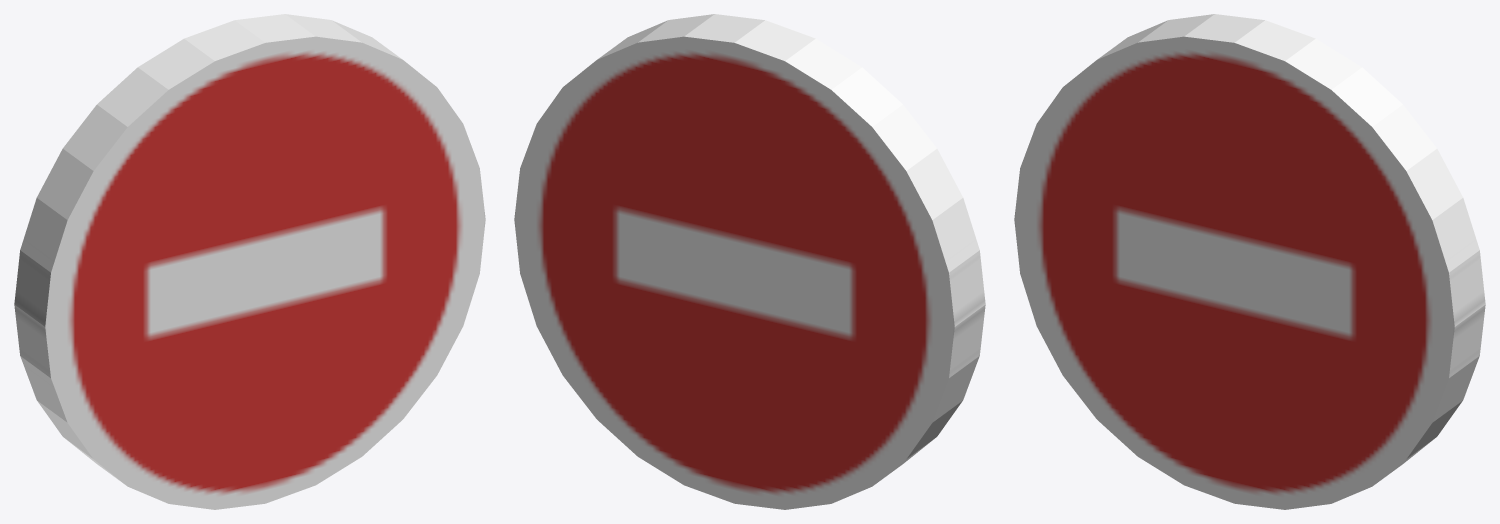
Rendered from ocuppedSignal.FBX.
The picture shows the model from 3 angles, left to right: view 1: azimuth 30°, elevation 25°; view 2: azimuth 150°, elevation 25°; view 3: azimuth 330°, elevation 25°; orthographic projection.
Parts seen in each view (by area): view 1: ocupedSignal; view 2: ocupedSignal; view 3: ocupedSignal.
Part boxes in pixels (left/top/right/bottom): ocupedSignal: left=14, top=14, right=485, bottom=509; ocupedSignal: left=514, top=14, right=985, bottom=509; ocupedSignal: left=1014, top=14, right=1485, bottom=509.
Size of the model in its own units: 36.74 by 36.74 by 4.46.
Materials: 1 (1 with a texture image).
